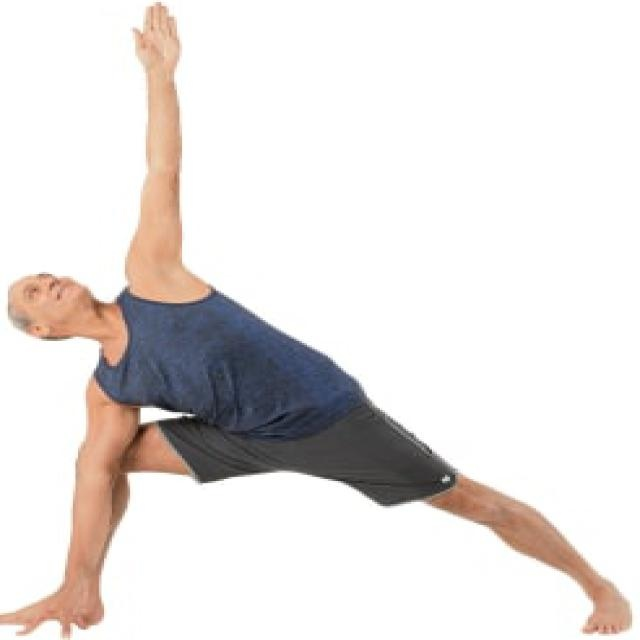Triangle_Pose: (1, 1, 637, 636)
